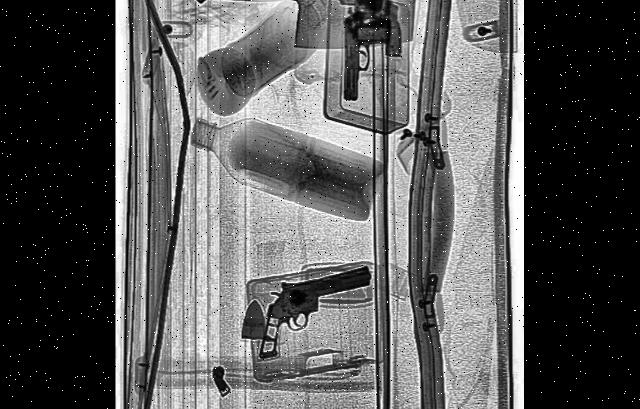Gun: (255, 258, 376, 355), (347, 11, 392, 102), (330, 0, 402, 55)
Knife: (185, 0, 421, 56)
